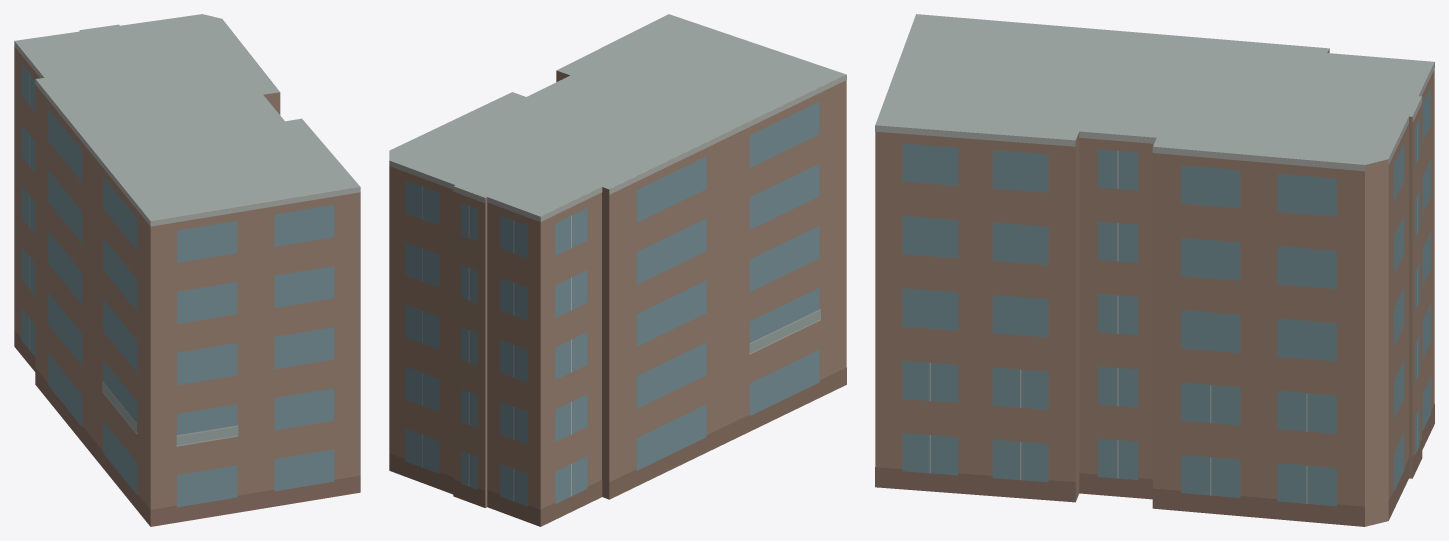
File: survey-upis-33041177.glb
3 renders of one model, left to right at view 1: azimuth 30°, elevation 25°; view 2: azimuth 150°, elevation 25°; view 3: azimuth 270°, elevation 25°, orthographic. The views are drawn at different scales.
Parts seen in each view (by area): view 1: survey-upis-33041177.tmp; view 2: survey-upis-33041177.tmp; view 3: survey-upis-33041177.tmp.
Boxes of the visible parts, <box> form: survey-upis-33041177.tmp: <box>14,14,360,526</box>; survey-upis-33041177.tmp: <box>389,14,846,526</box>; survey-upis-33041177.tmp: <box>875,14,1434,526</box>.
Size of the model in its own units: 12.54 by 14 by 19.63.
